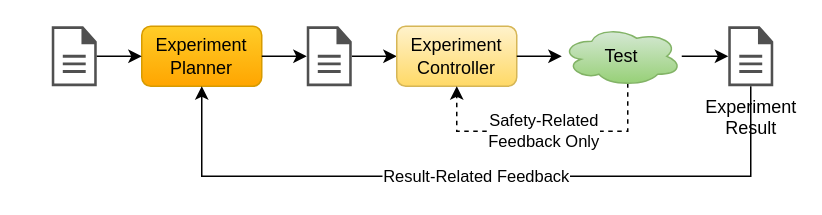
Some shapes in this 822 by 215 pixel diagram are drawn without their labels. Each missing label, with the centre of its shape:
"Experiment Design Plan" goes at point 73,56.
"Experiment Plan" goes at point 328,56.
